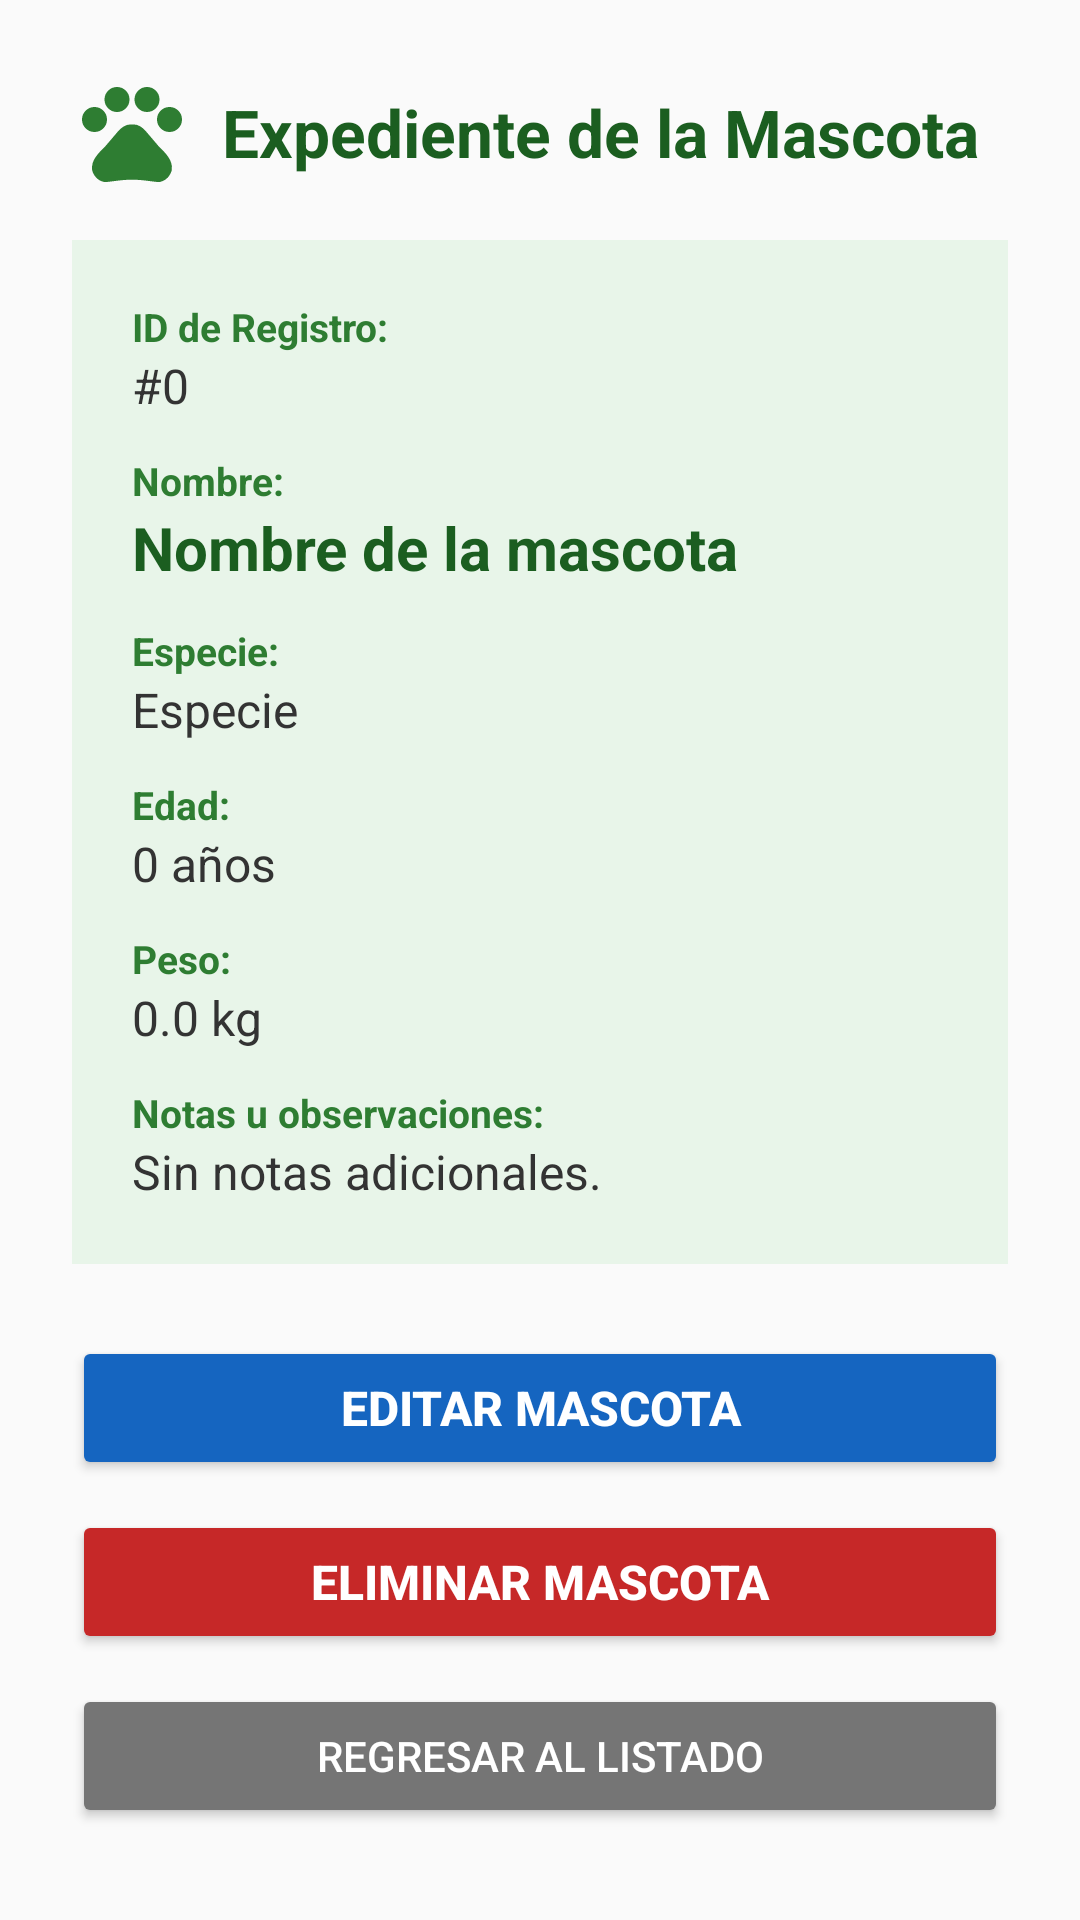

Screen size 1080w x 1920h. Icon name, then its box in pixels as (x1, y1, x2, y2):
Icono Detalle Mascota: (82, 87, 182, 182)
